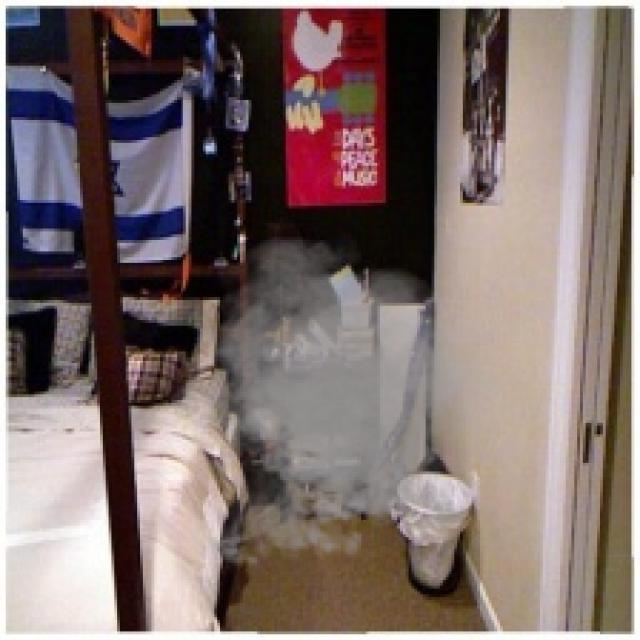smoke: (154, 232, 520, 577)
